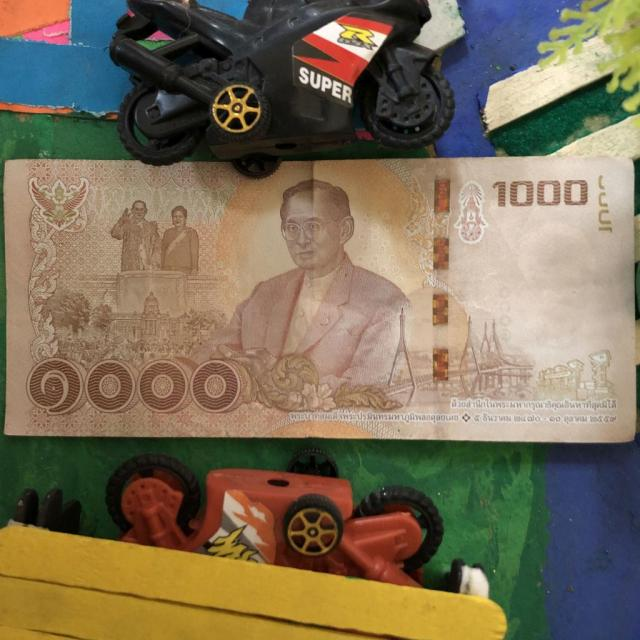THAI1000: (5, 158, 635, 443)
